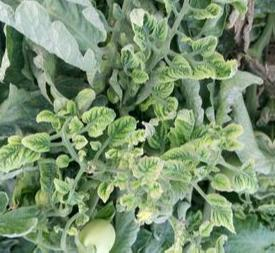Tomato leaf yellow virus: (176, 127, 234, 167), (0, 130, 34, 179), (80, 100, 127, 135), (207, 192, 243, 235), (129, 0, 157, 53), (126, 155, 171, 185), (104, 112, 141, 147), (203, 52, 244, 83), (152, 82, 184, 121), (27, 127, 59, 157), (235, 159, 260, 196), (167, 58, 196, 80)
